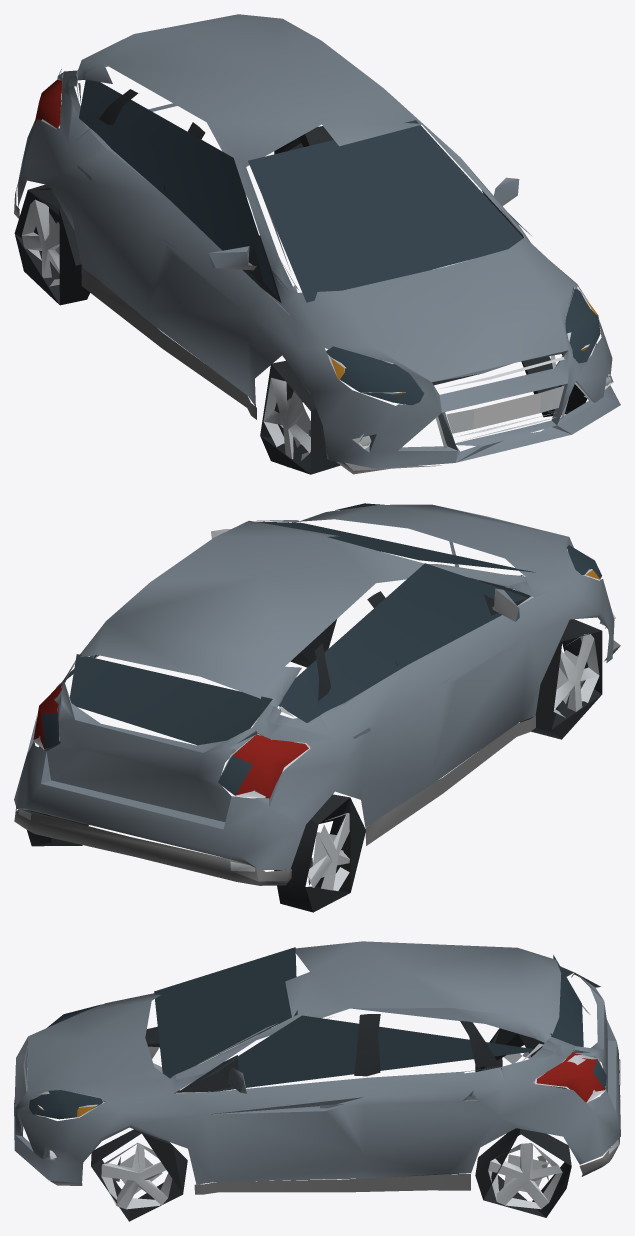
The model's file is city_far.glb.
3 renders of one model, top to bottom at view 1: azimuth 30°, elevation 25°; view 2: azimuth 150°, elevation 25°; view 3: azimuth 270°, elevation 25°, orthographic. The views are drawn at different scales.
Parts seen in each view (by area): view 1: paint-carPaint-body, glass-glass-body, rubber-black_rubber-(False, True), trim-gray_darkMatte-body, rubber-black_rubber-(False, False), alloy-chrome_matte-(False, False), alloy-chrome_matte-(False, True), alloy-chrome_dark-body, trim-white-body, rubber-black_glossy-body, taillamp-glass_red-body, rubber-black_rubber-(True, False) (+1 smaller); view 2: paint-carPaint-body, glass-glass-body, trim-gray_darkMatte-body, rubber-black_rubber-(False, True), rubber-black_rubber-(False, False), taillamp-glass_red-body, alloy-chrome_matte-(False, False), alloy-chrome_matte-(False, True), rubber-black_glossy-body, alloy-chrome-body, rubber-black_rubber-(True, False), mirror-chrome-body (+1 smaller); view 3: paint-carPaint-body, glass-glass-body, trim-gray_darkMatte-body, rubber-black_glossy-body, alloy-chrome_matte-(True, True), rubber-black_rubber-(True, True), alloy-chrome_matte-(True, False), rubber-black_rubber-(True, False), taillamp-glass_red-body, rubber-black_rubber-(False, True), alloy-chrome-body.
Part boxes in pixels (box(x1,y1,x2,y2)): paint-carPaint-body: box(17, 14, 620, 468); glass-glass-body: box(79, 80, 600, 405); rubber-black_rubber-(False, True): box(14, 184, 89, 305); trim-gray_darkMatte-body: box(14, 140, 517, 474); rubber-black_rubber-(False, False): box(260, 361, 340, 474); alloy-chrome_matte-(False, False): box(263, 377, 310, 467); alloy-chrome_matte-(False, True): box(21, 199, 59, 286); alloy-chrome_dark-body: box(399, 382, 592, 449); trim-white-body: box(473, 393, 540, 428); rubber-black_glossy-body: box(99, 89, 524, 303); taillamp-glass_red-body: box(34, 80, 61, 129); rubber-black_rubber-(True, False): box(521, 343, 596, 417); paint-carPaint-body: box(14, 504, 614, 870); glass-glass-body: box(42, 503, 601, 795); trim-gray_darkMatte-body: box(14, 564, 620, 885); rubber-black_rubber-(False, True): box(274, 794, 365, 912); rubber-black_rubber-(False, False): box(520, 619, 602, 739); taillamp-glass_red-body: box(33, 684, 308, 798); alloy-chrome_matte-(False, False): box(553, 633, 599, 717); alloy-chrome_matte-(False, True): box(307, 813, 349, 890); rubber-black_glossy-body: box(94, 580, 530, 700); alloy-chrome-body: box(18, 549, 615, 871); rubber-black_rubber-(True, False): box(290, 619, 336, 667); mirror-chrome-body: box(211, 529, 518, 621); paint-carPaint-body: box(14, 941, 620, 1184); glass-glass-body: box(29, 947, 606, 1119); trim-gray_darkMatte-body: box(49, 1023, 620, 1194); rubber-black_glossy-body: box(177, 1014, 499, 1092); alloy-chrome_matte-(True, True): box(488, 1143, 562, 1209); rubber-black_rubber-(True, True): box(475, 1128, 571, 1217); alloy-chrome_matte-(True, False): box(101, 1143, 172, 1209); rubber-black_rubber-(True, False): box(91, 1129, 187, 1221); taillamp-glass_red-body: box(534, 1053, 604, 1102); rubber-black_rubber-(False, True): box(475, 1028, 566, 1088); alloy-chrome-body: box(36, 1055, 619, 1159).
Size of the model in its own units: 2.04 by 1.55 by 4.34.
